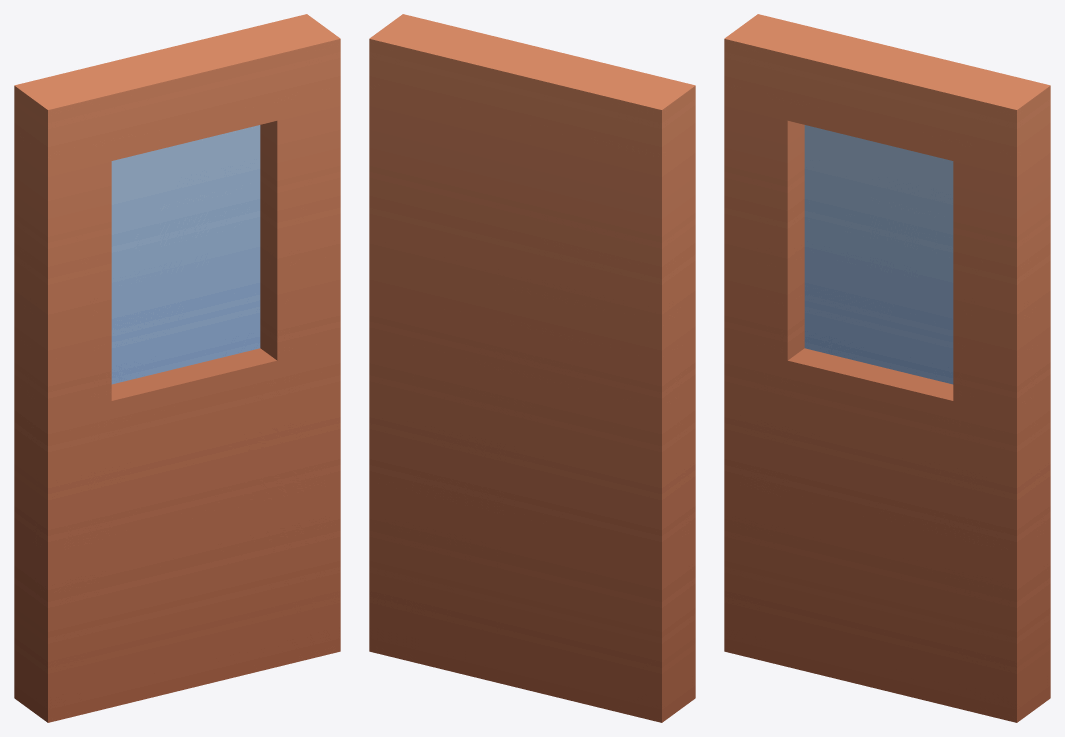
Rendered from door-brown-window.glb.
3 views of the same model, side by side, from view 1: azimuth 30°, elevation 25°; view 2: azimuth 150°, elevation 25°; view 3: azimuth 330°, elevation 25° (orthographic).
Parts seen in each view (by area): view 1: door-brown-window; view 2: door-brown-window; view 3: door-brown-window.
Part boxes in pixels (x1,y1,x2,y2): door-brown-window: (14, 14, 340, 722); door-brown-window: (369, 14, 695, 722); door-brown-window: (724, 14, 1050, 722).
Bounding box in the file's own units: 0.25 × 0.5 × 0.05.
1 material, 1 textured.
